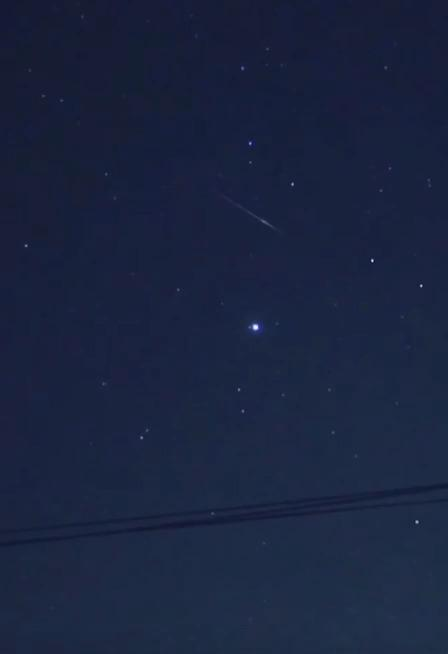meteorite: (211, 188, 300, 248)
